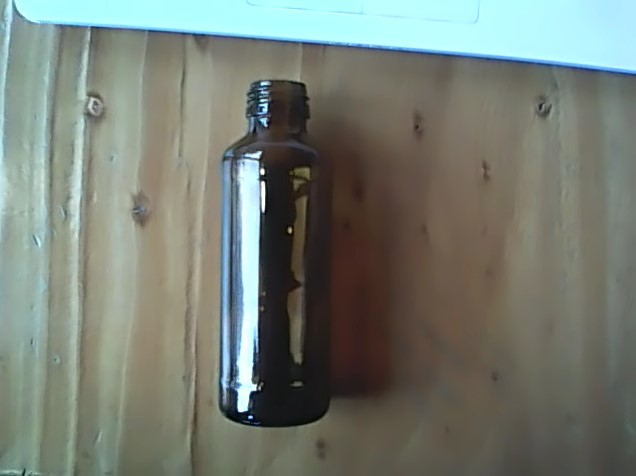Glass: (218, 77, 338, 432)
